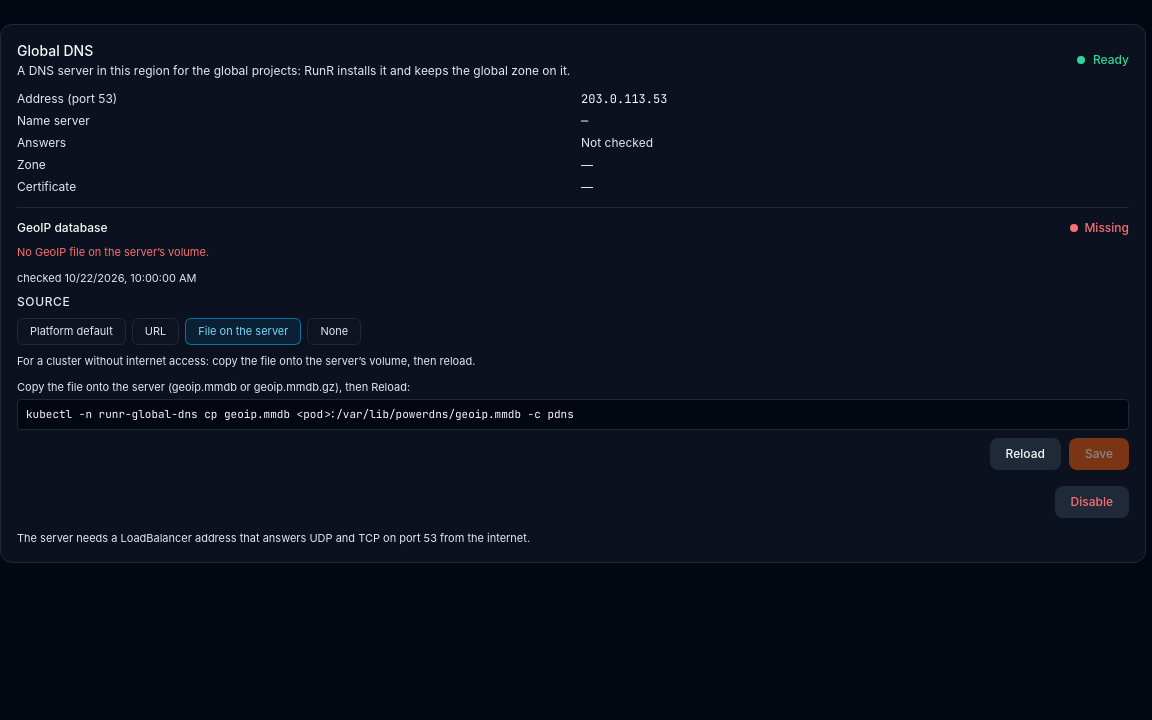
Region → Global DNS: GeoIP database › shows the copy command of an operator file and reloads the server
The width and height of the screenshot is (1152, 720).
Expected: the element with test id "global-dns-geoip-file" shows "kubectl -n runr-global-dns cp geoip.mmdb", top-left (26, 407), bottom-right (574, 421)
Expected: the button with test id "global-dns-geoip-save" is disabled, top-left (1069, 438), bottom-right (1129, 470)
Step 1. Click the button with test id "global-dns-geoip-reload" → (1025, 454), box top-left (990, 438), bottom-right (1061, 470)
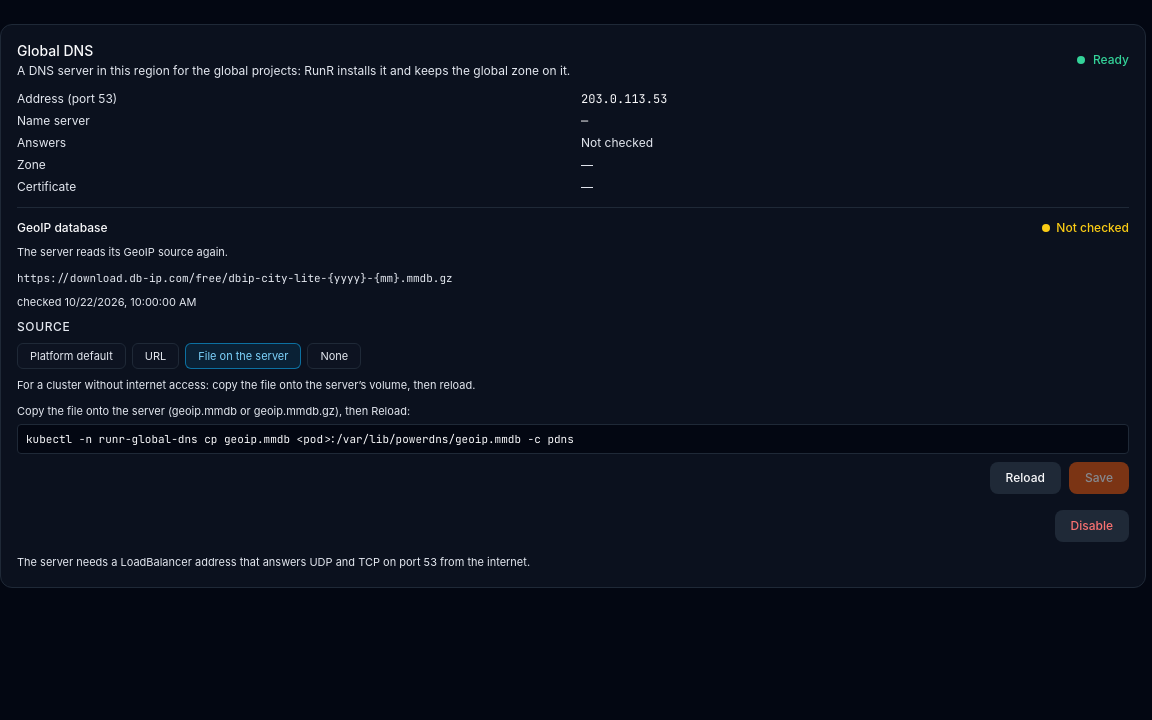
Expected: the text "reads its GeoIP source again" is shown, top-left (17, 245), bottom-right (228, 259)
